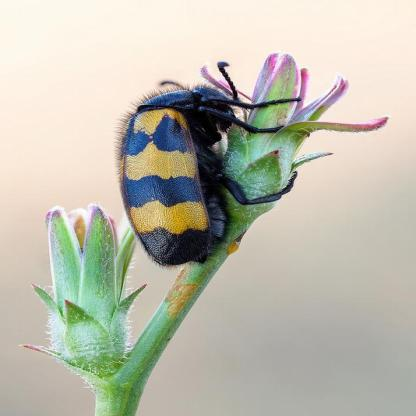beetle: (106, 60, 304, 266)
